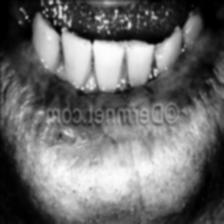Potentially Malignant Skin Tumors: (44, 122, 82, 150)
